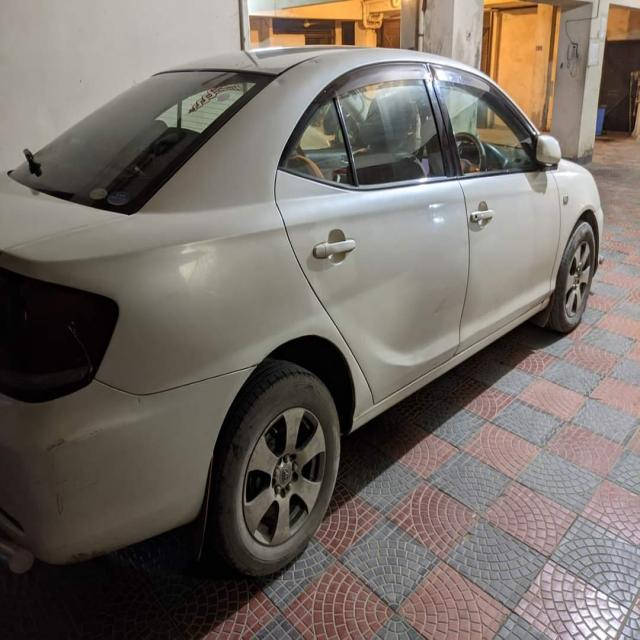white: (6, 36, 608, 576)
